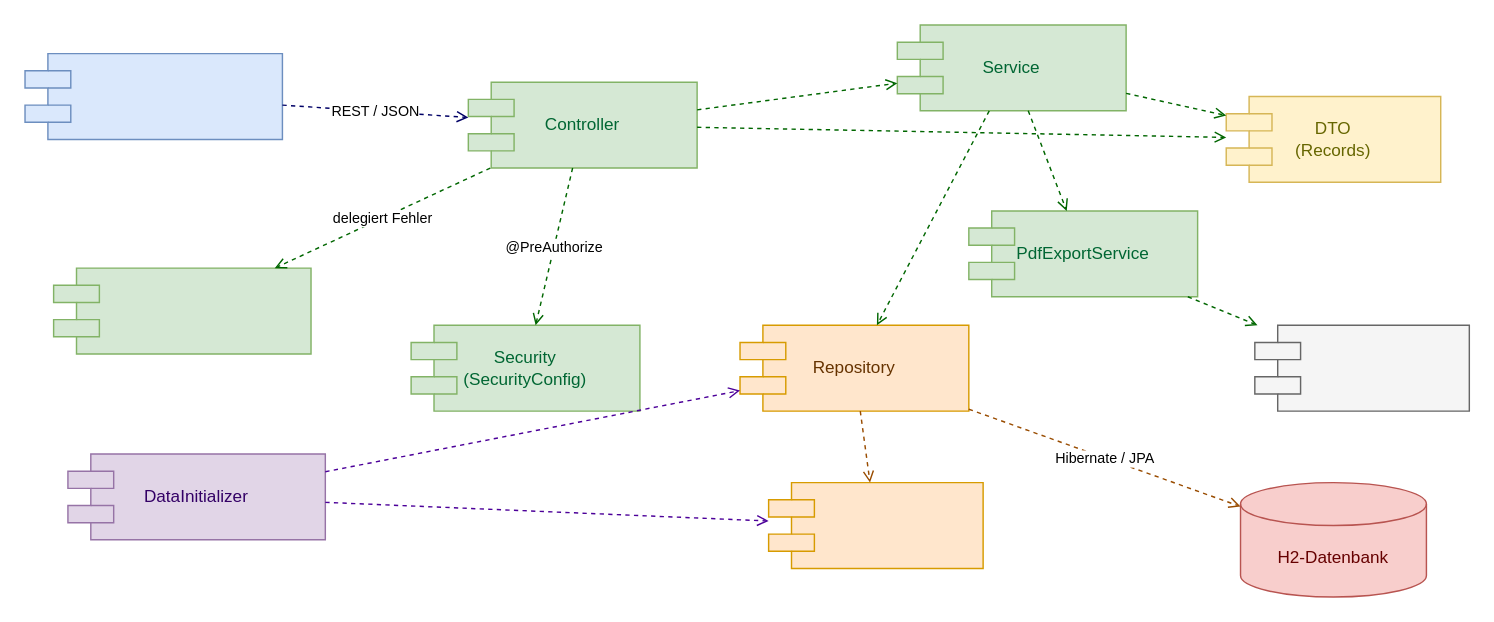
The diagram is 1494 pixels wide and 622 high, and some of its shapes have lost their labels. Each missing label, with the box of its shape:
Domänenmodell (Entity + Enum): (767, 481, 983, 568)
Frontend (React SPA): (24, 52, 282, 139)
GlobalException- Handler: (52, 267, 311, 354)
openpdf (externe Bibliothek): (1253, 324, 1469, 411)
